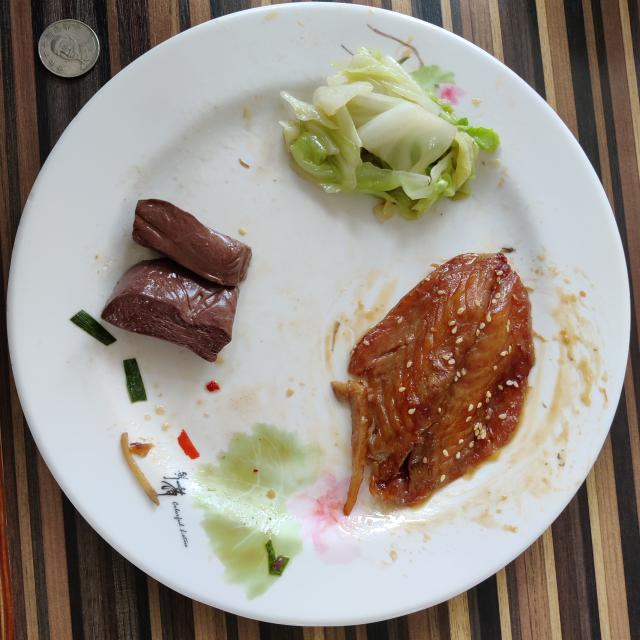Kabayaki sea bream fillet: (331, 252, 535, 515)
cabbage: (281, 48, 499, 219)
coin: (39, 20, 100, 78)
pig blood curd: (101, 199, 251, 361)
